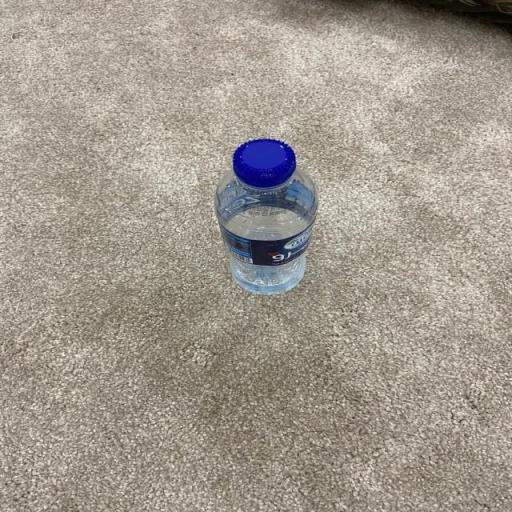plastic: (210, 134, 322, 296)
